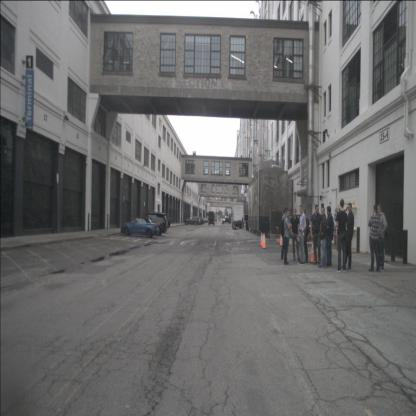human-pedestrian-adult: (340, 203, 354, 270), (336, 198, 348, 272), (368, 205, 380, 272), (376, 204, 388, 271), (310, 205, 323, 264), (324, 206, 334, 266), (282, 210, 292, 265), (318, 207, 327, 268), (290, 209, 300, 261), (301, 208, 310, 263), (298, 205, 306, 265), (281, 208, 289, 262), (242, 216, 245, 231)
movable_object-trafficcone: (309, 240, 315, 263), (381, 244, 388, 263), (316, 241, 321, 263), (262, 234, 266, 249), (279, 232, 283, 247), (261, 233, 265, 248), (260, 232, 263, 247)
vehicle-car: (121, 217, 159, 238), (139, 212, 168, 236), (184, 215, 198, 226)
vehicle-truck: (233, 202, 244, 229), (208, 211, 215, 226)
